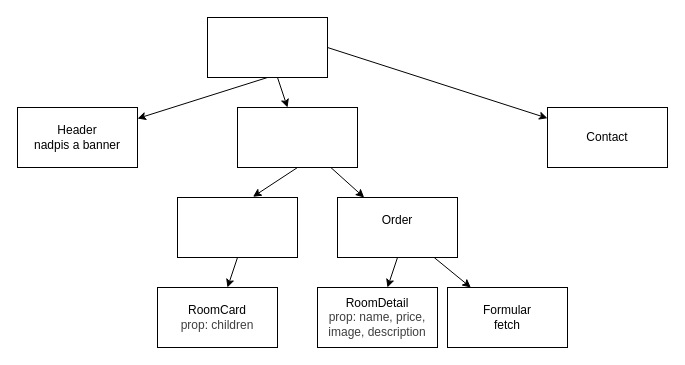
Image size: 685x365. Some labels were removed from this diagram. Here are the shapes that lost their labels. From the top down, the centre of each, then its label:
(x=267, y=47): HomePage
(x=297, y=137): Rooms fetch: name, price, image
(x=237, y=227): RoomOffer state: room
